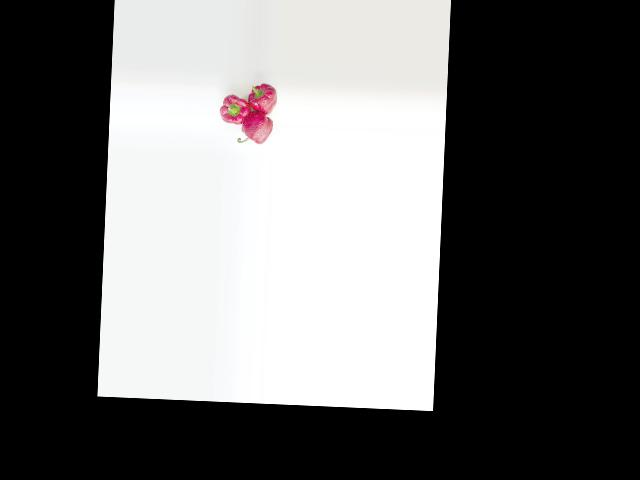bell_pepper: (235, 113, 275, 152)
